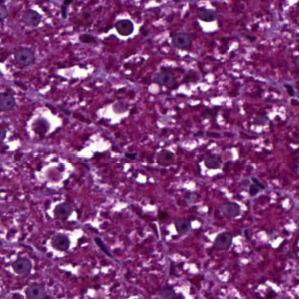inflammation: (196, 145, 240, 182), (39, 228, 87, 256), (23, 108, 64, 138), (44, 196, 81, 225), (108, 12, 140, 43), (109, 13, 138, 42), (195, 3, 220, 36)
